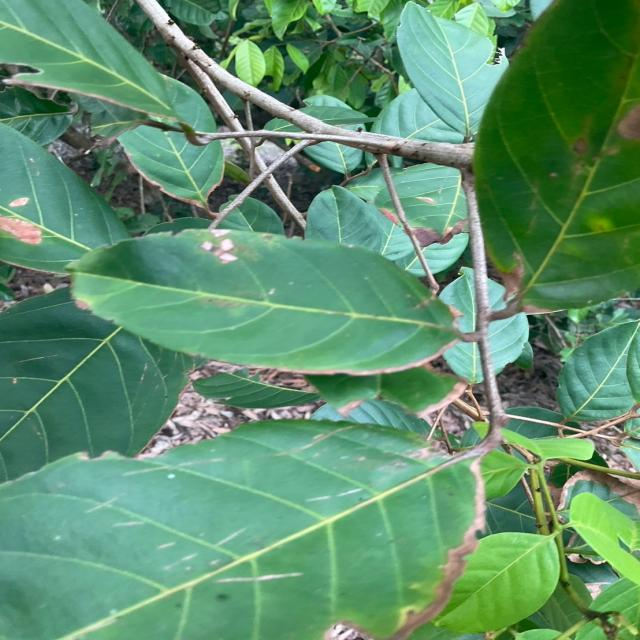Leaf Blight: (320, 459, 487, 640), (0, 189, 55, 253)
